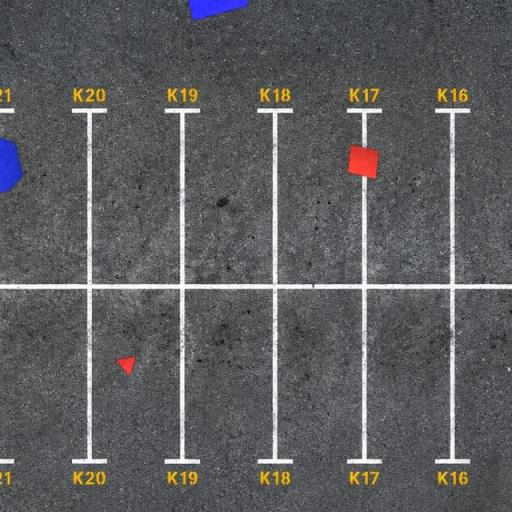RED_SQUARE: (347, 144, 380, 180)
